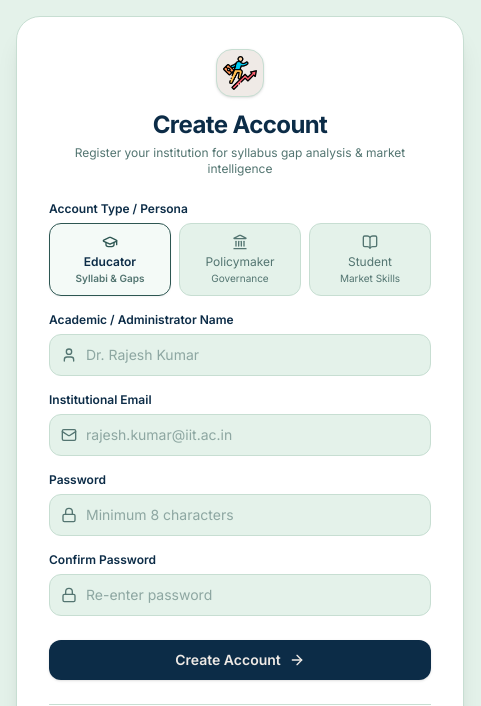
Scenario: Authentication Pages & Forms › validates password mismatch on registration
The width and height of the screenshot is (481, 706).
Type "Dr. Sharma" into the field labelled "Academic / Administrator Name". click: {"x": 240, "y": 354}
box: [49,334,431,376]
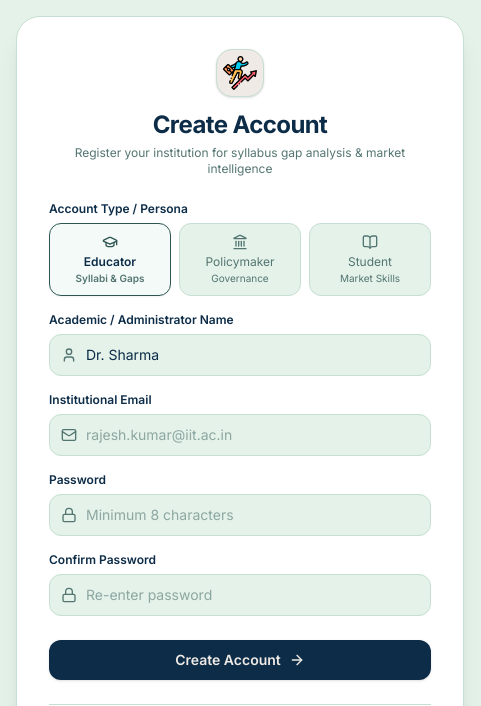
Type "sharma@iit.ac.in" into the field labelled "Institutional Email". click: {"x": 240, "y": 434}
box: [49,414,431,456]
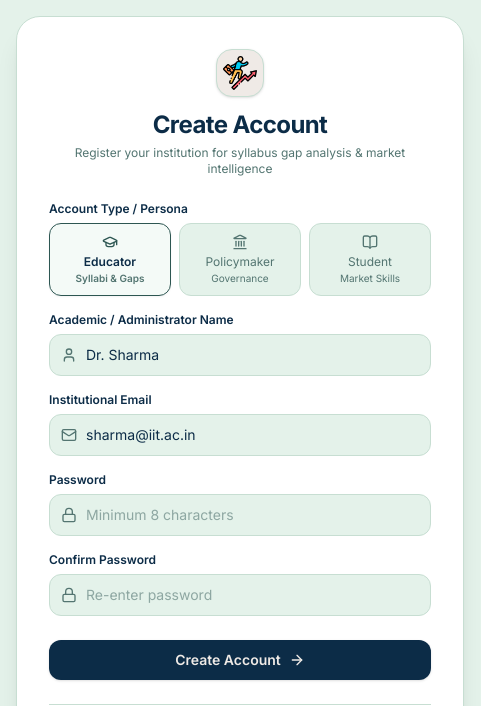
Type "password123" into the password field labelled "Password". click: {"x": 240, "y": 514}
box: [49,494,431,536]
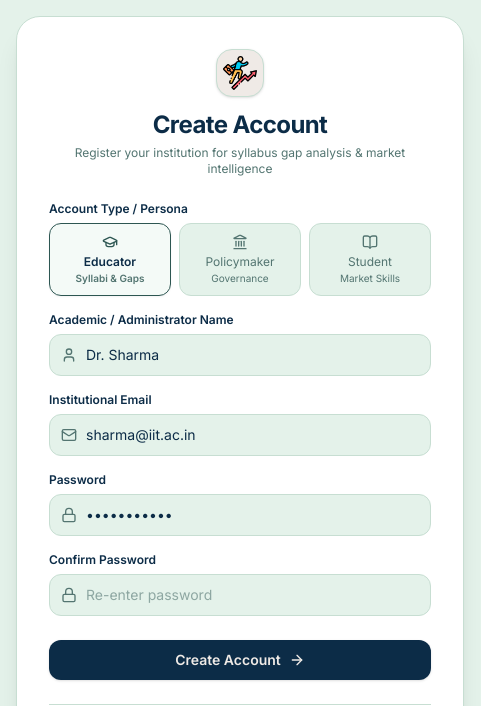
Type "different123" into the password field labelled "Confirm Password". click: {"x": 240, "y": 594}
box: [49,574,431,616]
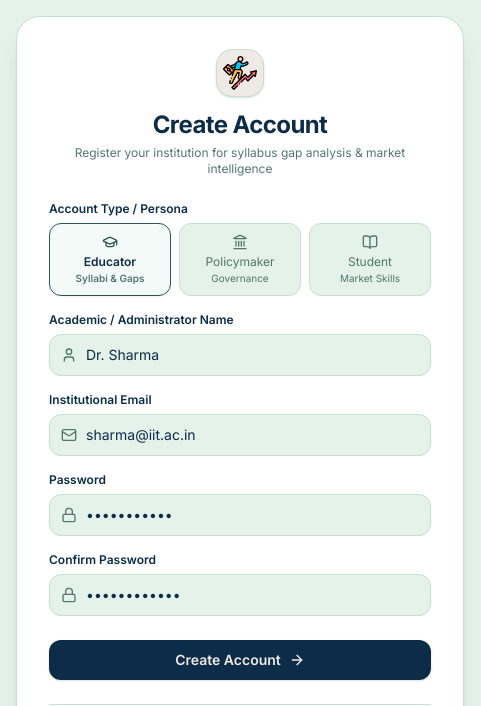
Click the button "Create Account". click: {"x": 240, "y": 660}
box: [49,640,431,680]
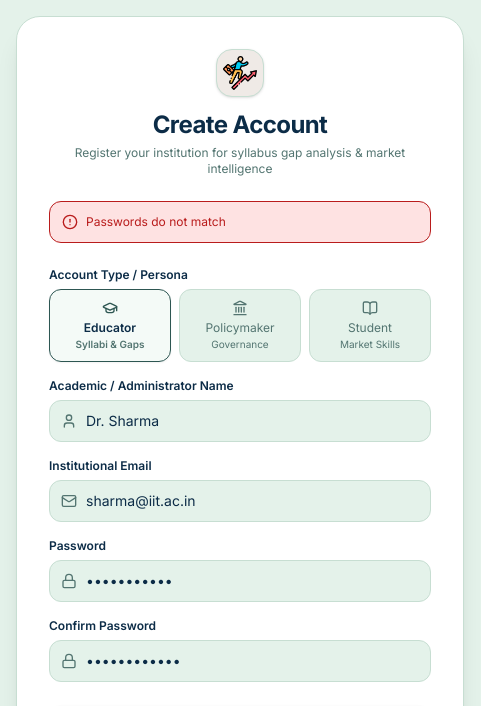
Expected: the message reads "Passwords do not match", [86,214,226,229]
